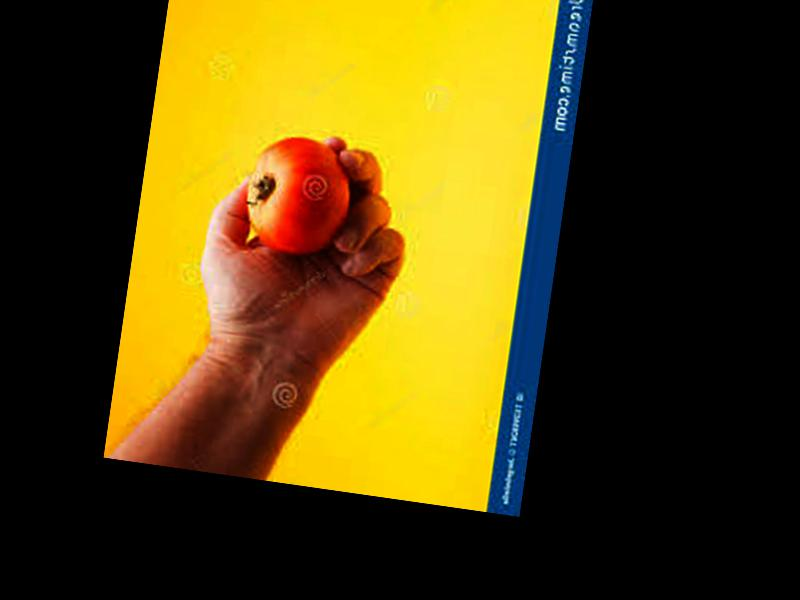Tomato: (240, 132, 357, 260)
